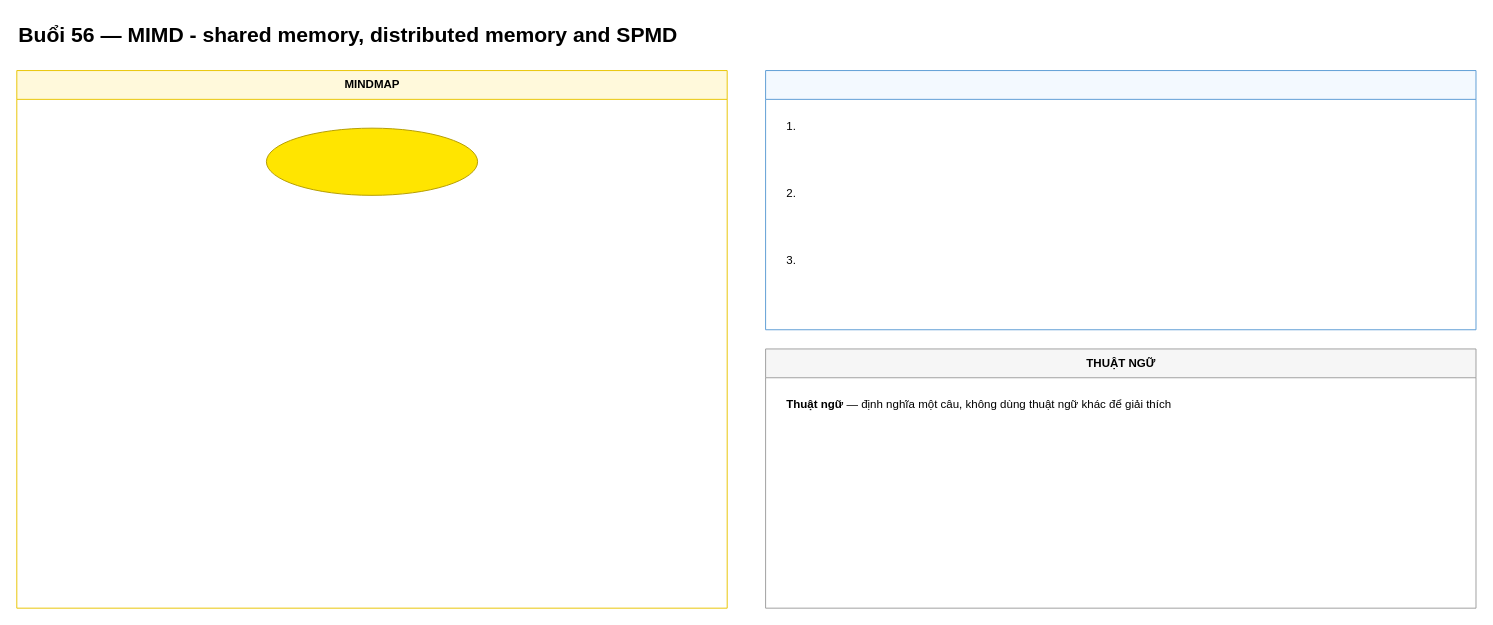
This 1493x625 diagram has some shape labels left out. Here are the shapes that lost their labels. From the top down, the box of each, then its label:
(265, 127, 478, 195): MIMD - shared memory, distributed memory and SPMD
(765, 70, 1476, 330): KEY TAKEAWAY — ba điều phải nhớ
